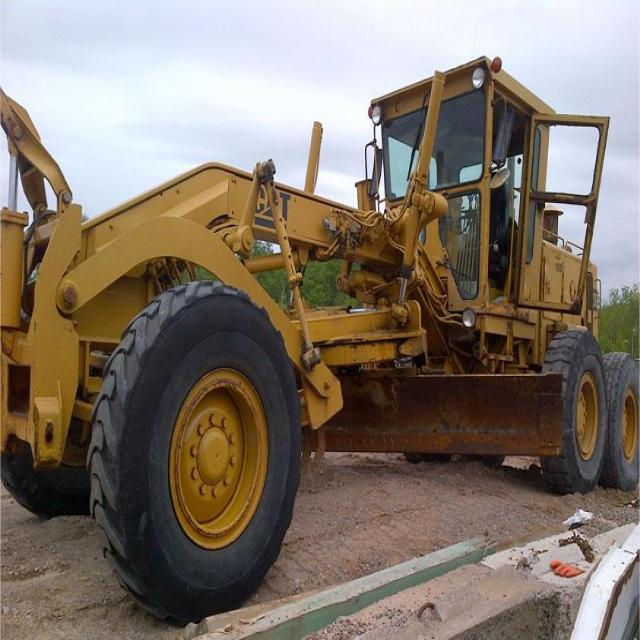Grader: (2, 34, 639, 622)
